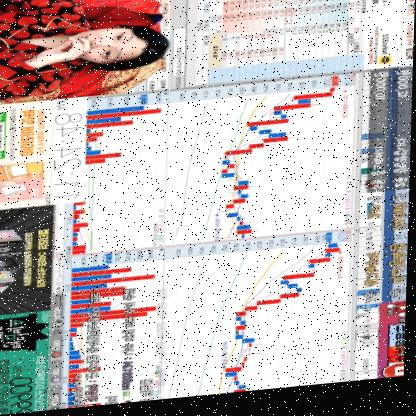streamer: (0, 0, 170, 102)
